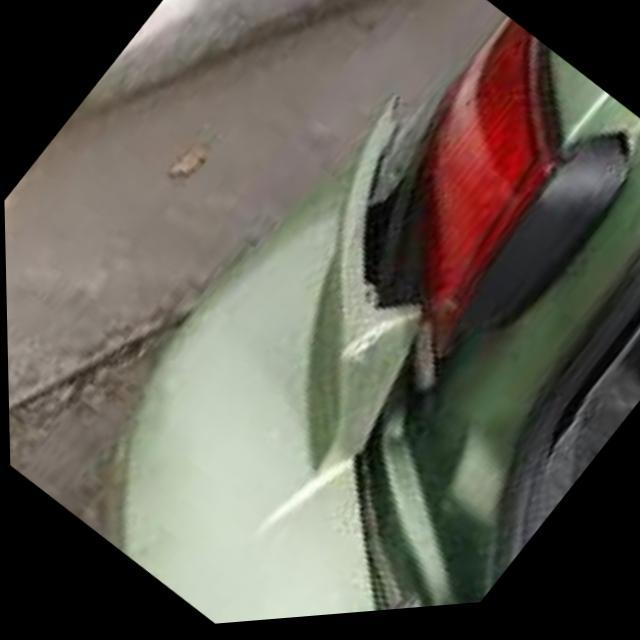crack: (327, 62, 507, 618)
